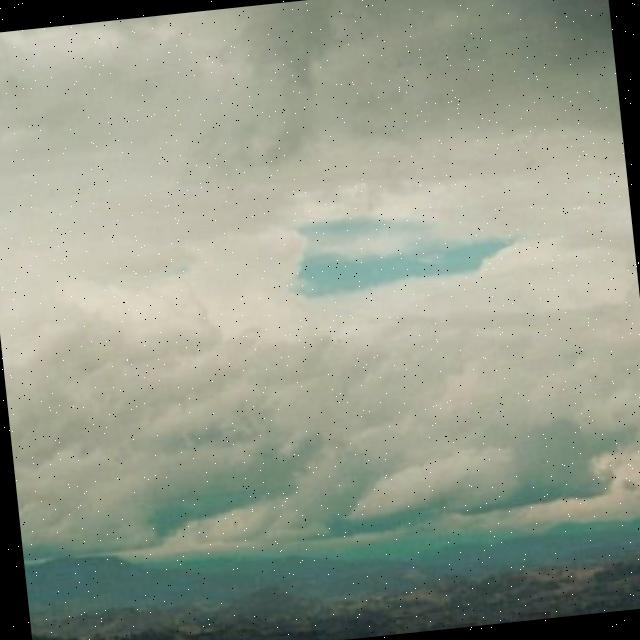Sc: (1, 21, 640, 576)
